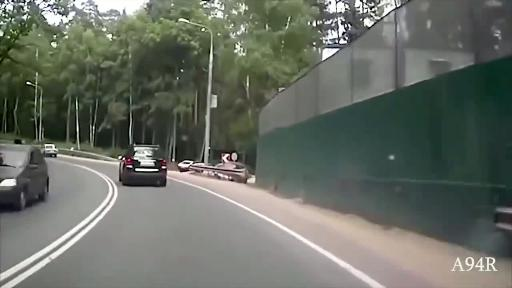CAR: (40, 113, 197, 212)
